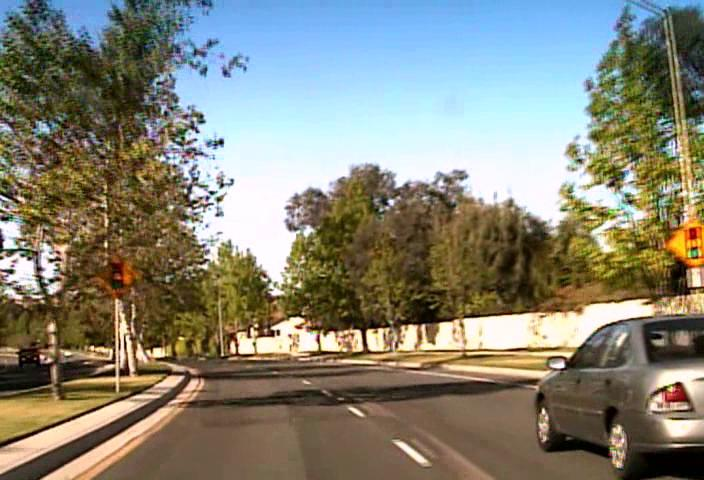signalAhead: (90, 252, 140, 298)
